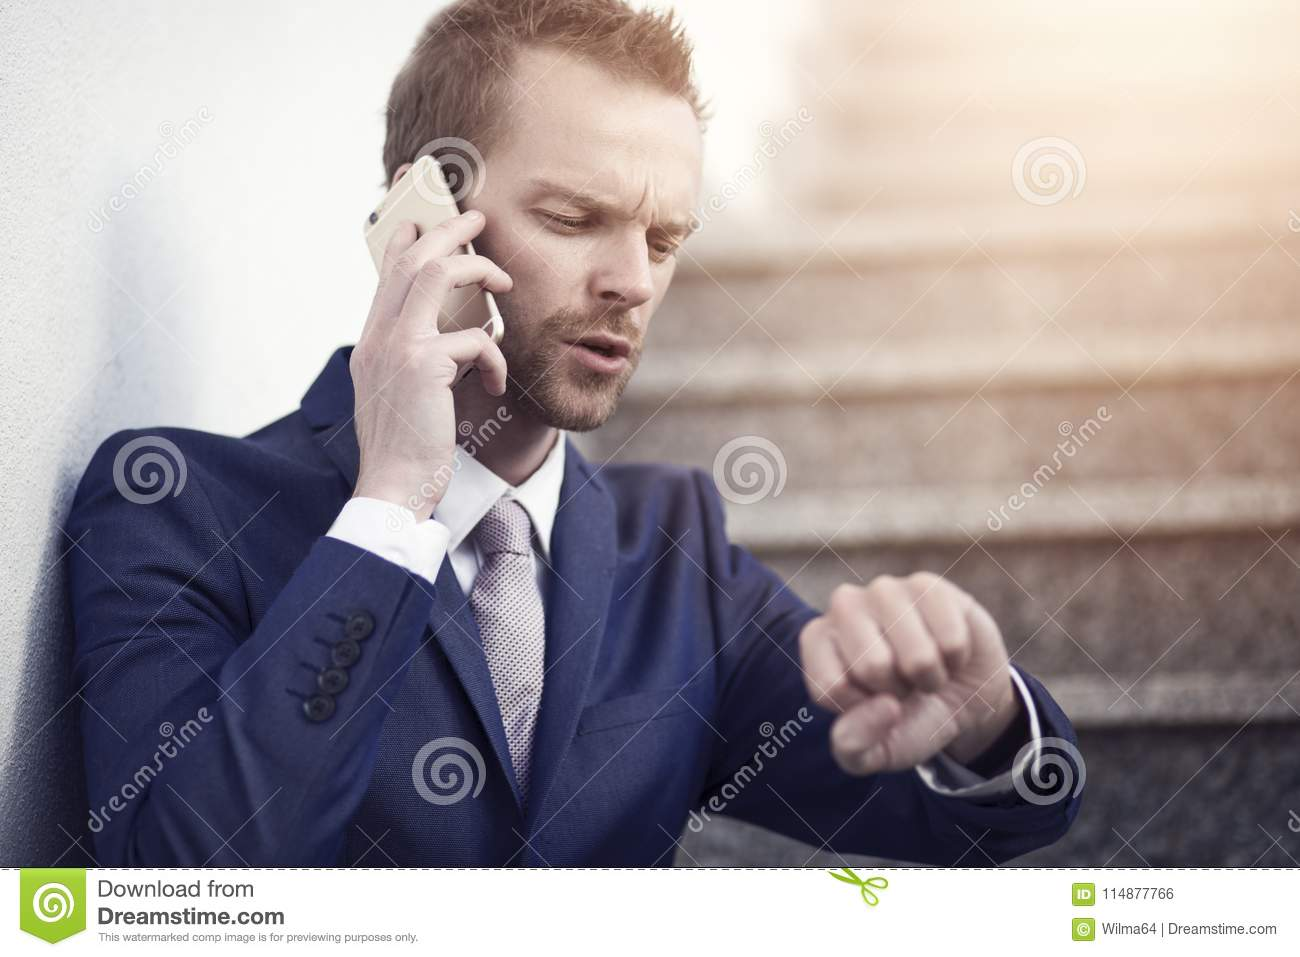phone: (364, 157, 503, 383)
talk: (351, 133, 693, 514)
